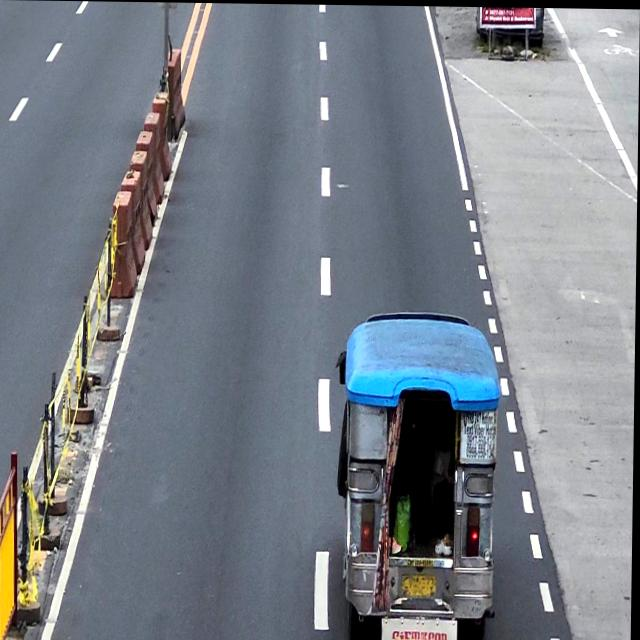Jeep: (334, 309, 504, 640)
License-Plate: (404, 573, 440, 596)
